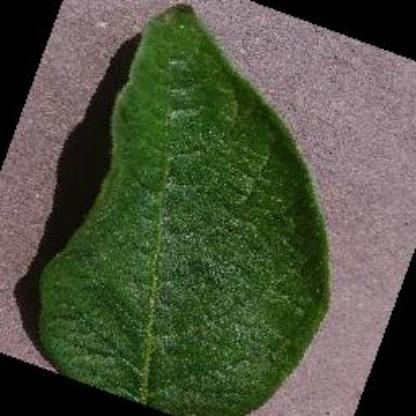Healthy-plant: (32, 6, 330, 414)
